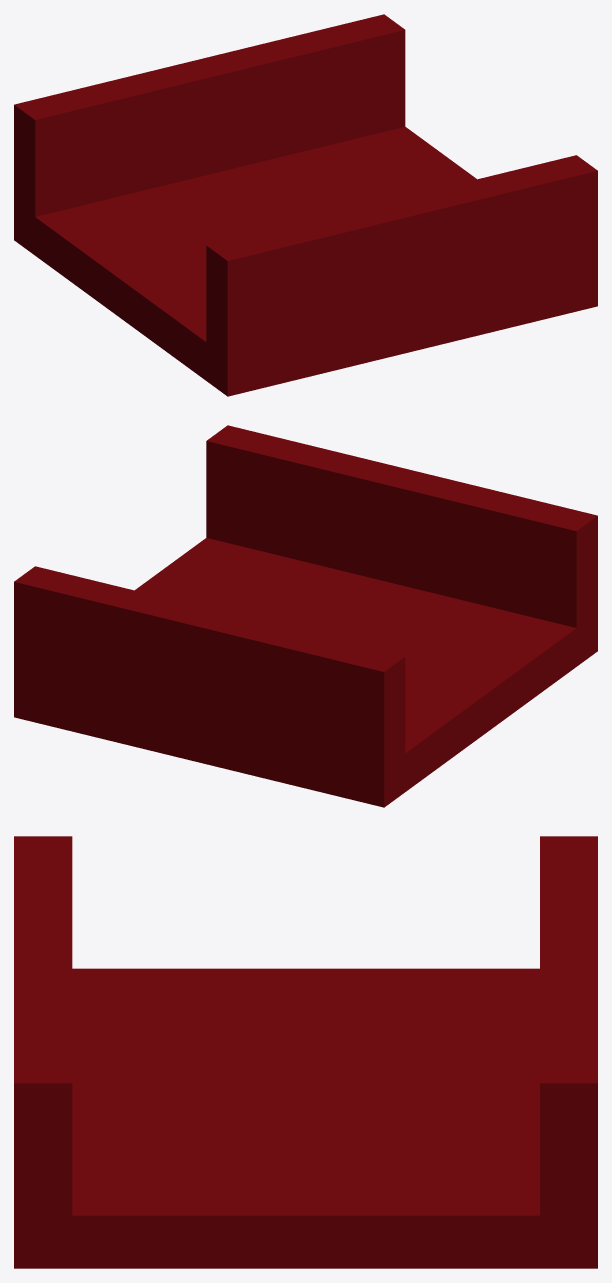
The model's file is RedRoof_2Edges_Small.glb.
3 renders of one model, top to bottom at view 1: azimuth 30°, elevation 25°; view 2: azimuth 150°, elevation 25°; view 3: azimuth 270°, elevation 25°, orthographic. The views are drawn at different scales.
Visible parts, largest first — view 1: roof_flat_2Edges_small_red; view 2: roof_flat_2Edges_small_red; view 3: roof_flat_2Edges_small_red.
Boxes of the visible parts, x1,y1,x2,y2 form: roof_flat_2Edges_small_red: (14,14,597,396); roof_flat_2Edges_small_red: (14,425,597,807); roof_flat_2Edges_small_red: (14,836,597,1268).
Size of what is drawn, in the model's own units: 2 by 0.7 by 2.
Materials: 1 (1 with a texture image).
